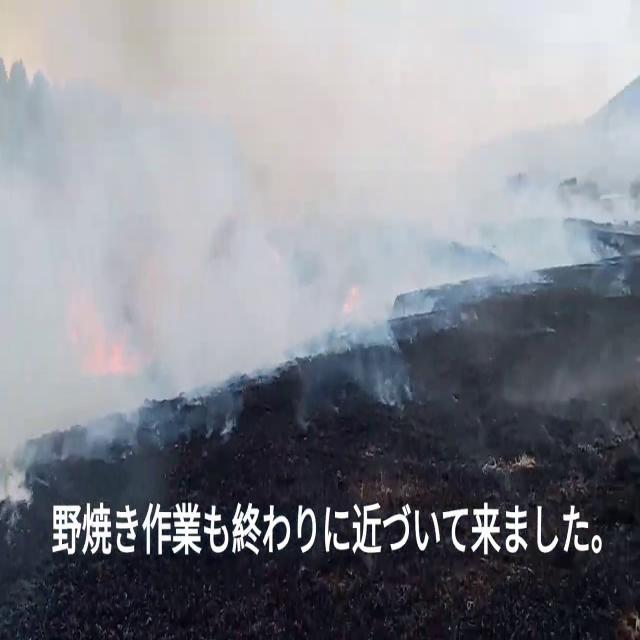Smoke: (0, 0, 410, 430), (498, 282, 640, 424)
